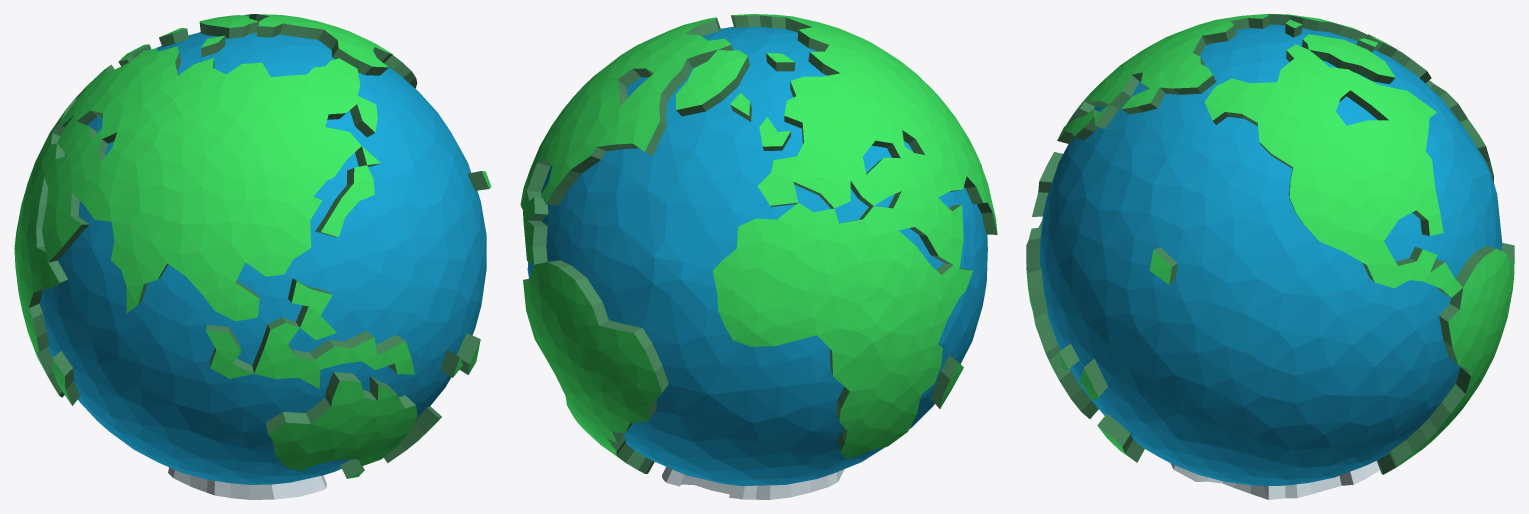
The model's file is LowPolyEarth.glb.
3 renders of one model, left to right at view 1: azimuth 30°, elevation 25°; view 2: azimuth 150°, elevation 25°; view 3: azimuth 270°, elevation 25°, orthographic.
Visible parts, largest first — view 1: Sphere; view 2: Sphere; view 3: Sphere.
Boxes of the visible parts, x1=… form: Sphere: x1=14, y1=14, x2=491, y2=499; Sphere: x1=520, y1=14, x2=997, y2=499; Sphere: x1=1026, y1=14, x2=1514, y2=499.
Size of the model in its own units: 2.04 by 2.11 by 2.11.
